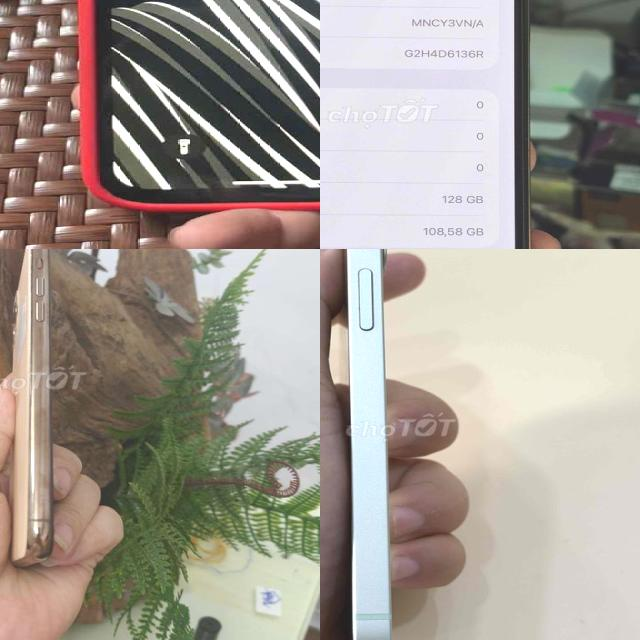gen_11: (0, 249, 66, 587)
gen_12_13: (320, 0, 539, 249), (329, 249, 411, 640)
gen_x_xs: (61, 0, 320, 216)
